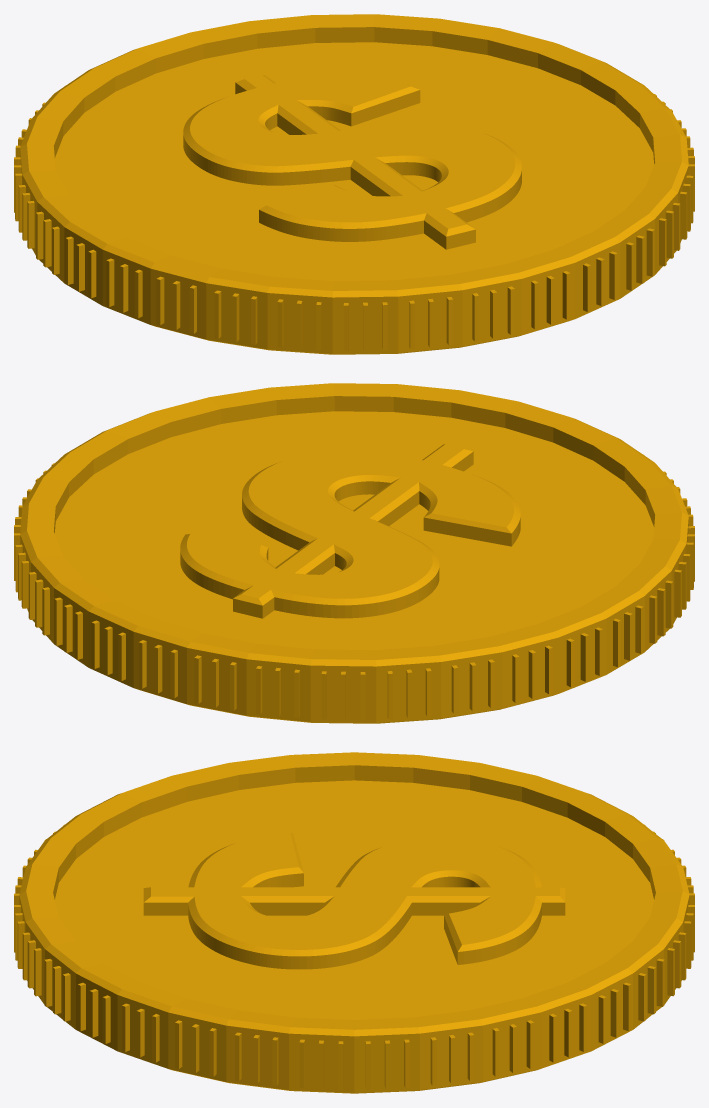
The model's file is gold_coin.glb.
3 views of the same model, one above another, from view 1: azimuth 30°, elevation 25°; view 2: azimuth 150°, elevation 25°; view 3: azimuth 270°, elevation 25° (orthographic).
Visible parts, largest first — view 1: Coin; view 2: Coin; view 3: Coin.
Boxes of the visible parts, bbox=[...] form: Coin: bbox=[14, 14, 694, 354]; Coin: bbox=[14, 383, 694, 723]; Coin: bbox=[14, 752, 694, 1093].
Bounding box in the file's own units: 2.03 × 0.21 × 2.03.
